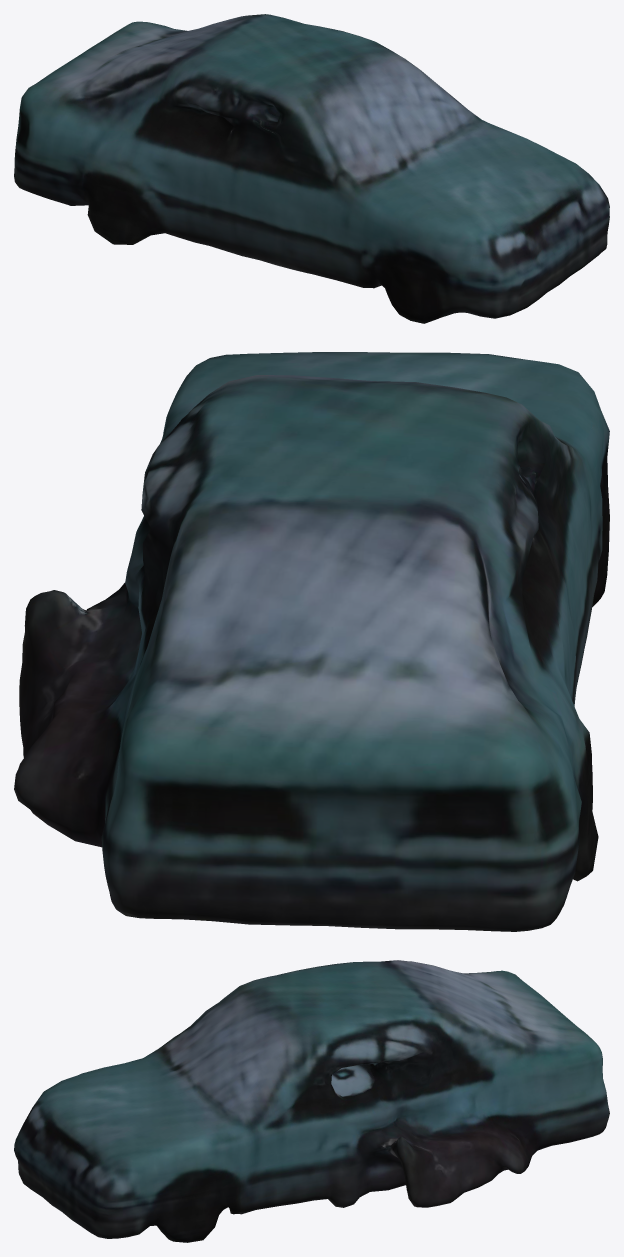
Rendered from abandoned_car02.glb.
3 views of the same model, one above another, from view 1: azimuth 30°, elevation 25°; view 2: azimuth 150°, elevation 25°; view 3: azimuth 270°, elevation 25° (orthographic). The views are drawn at different scales.
Visible parts, largest first — view 1: mesh; view 2: mesh; view 3: mesh.
Boxes of the visible parts, x1,y1,x2,y2 form: mesh: (14, 14, 609, 323); mesh: (14, 352, 609, 931); mesh: (14, 960, 609, 1242).
Bounding box in the file's own units: 0.7402 × 0.3215 × 0.998.
1 material, 1 textured.
